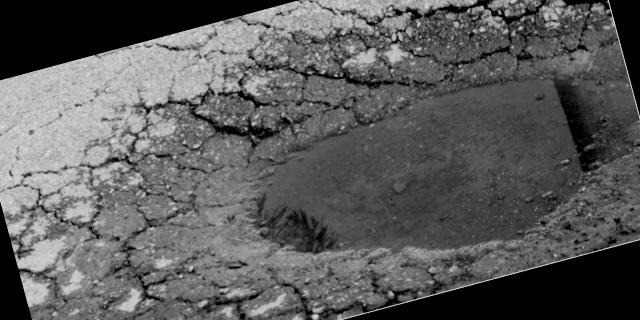Pothole: (153, 35, 640, 320)
